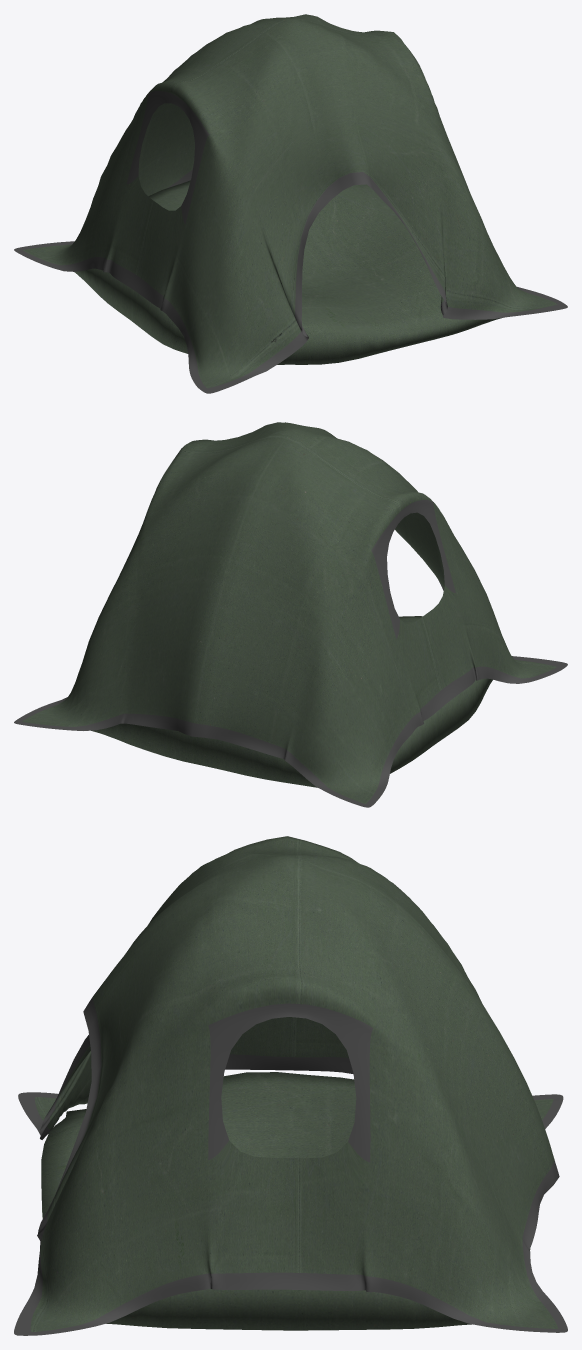
The model's file is Tent.fbx.
3 views of the same model, one above another, from view 1: azimuth 30°, elevation 25°; view 2: azimuth 150°, elevation 25°; view 3: azimuth 270°, elevation 25° (orthographic). The views are drawn at different scales.
Parts seen in each view (by area): view 1: Tent; view 2: Tent; view 3: Tent.
Boxes of the visible parts, x1,y1,x2,y2 form: Tent: [14, 14, 567, 393]; Tent: [14, 422, 567, 807]; Tent: [14, 836, 567, 1335].
Bounding box in the file's own units: 403 × 286 × 388.
